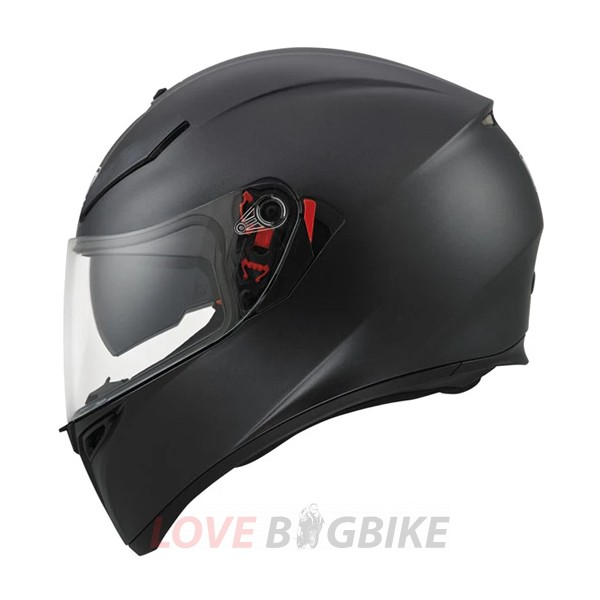helmet: (62, 48, 544, 559)
